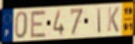0: (14, 10, 29, 40)
4: (52, 9, 66, 37)
7: (70, 7, 84, 36)
E: (30, 10, 47, 39)
I: (98, 8, 102, 34)
K: (107, 6, 120, 33)
